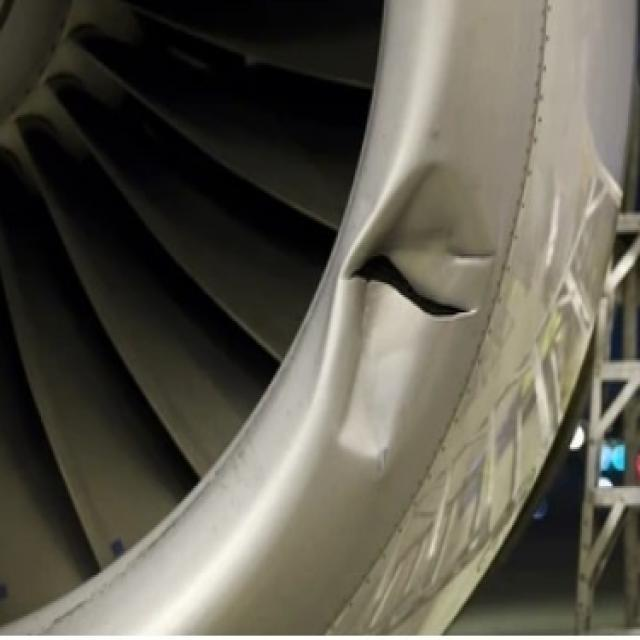crack: (342, 249, 484, 325)
dent: (319, 160, 505, 490)
